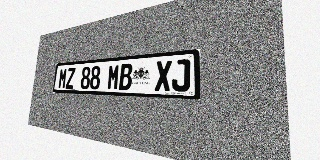8: (89, 65, 101, 90), (80, 66, 91, 89)
B: (119, 63, 133, 90)
J: (171, 59, 190, 92)
M: (107, 64, 120, 90), (58, 68, 67, 89)
X: (155, 60, 172, 91)
Z: (65, 67, 76, 89)
